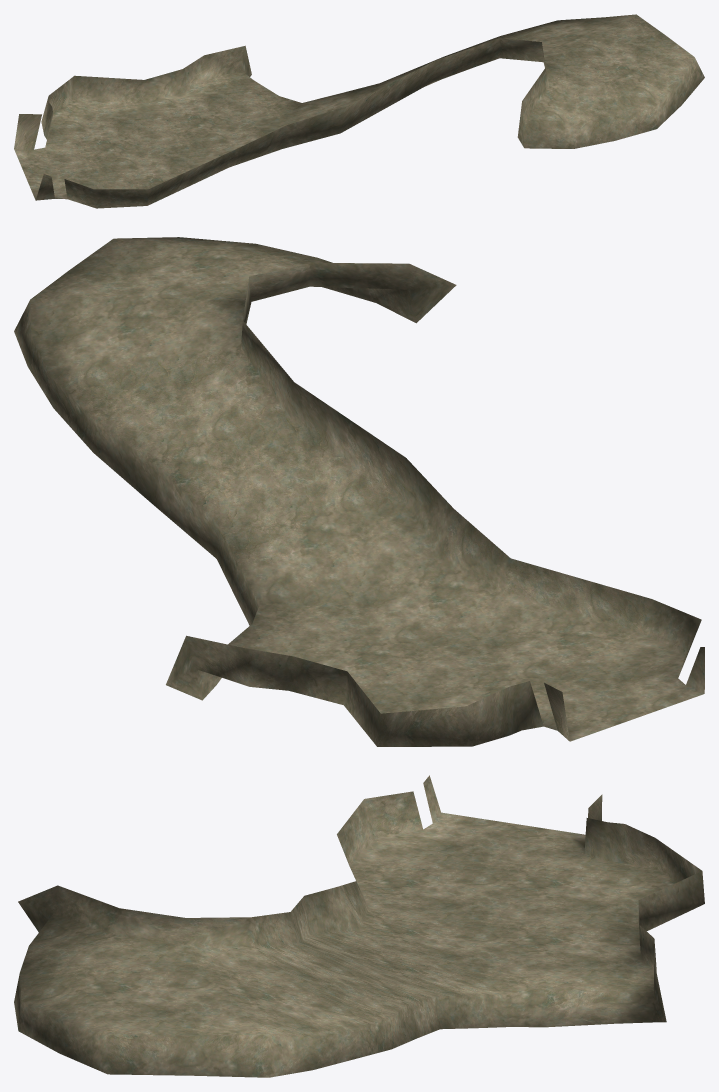
The model's file is EKH_THRONE_PS_TH_GROUND_009.fbx.
3 renders of one model, top to bottom at view 1: azimuth 30°, elevation 25°; view 2: azimuth 150°, elevation 25°; view 3: azimuth 270°, elevation 25°, orthographic. The views are drawn at different scales.
Parts seen in each view (by area): view 1: EKH_THRONE_PS_TH_GROUND_009; view 2: EKH_THRONE_PS_TH_GROUND_009; view 3: EKH_THRONE_PS_TH_GROUND_009.
Boxes of the visible parts, x1,y1,x2,y2 form: EKH_THRONE_PS_TH_GROUND_009: (14,14,704,208); EKH_THRONE_PS_TH_GROUND_009: (14,237,704,746); EKH_THRONE_PS_TH_GROUND_009: (14,775,704,1077).
Bounding box in the file's own units: 121453 × 30025 × 95984.
1 material, 1 textured.
